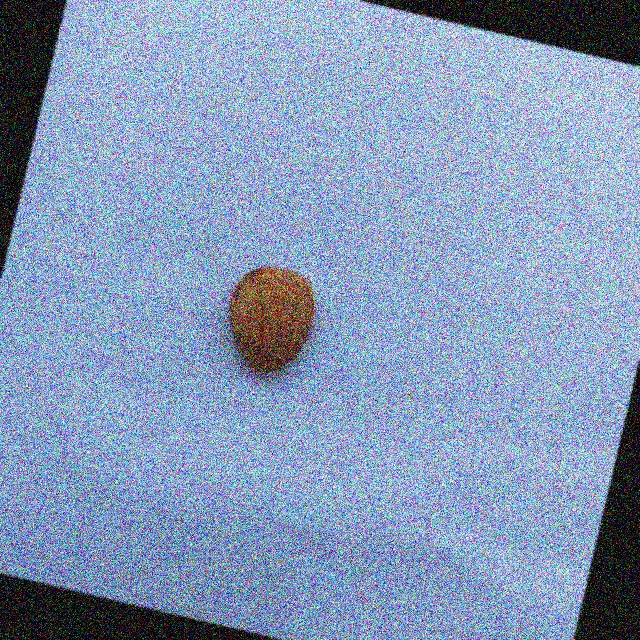grade1: (208, 251, 334, 392)
